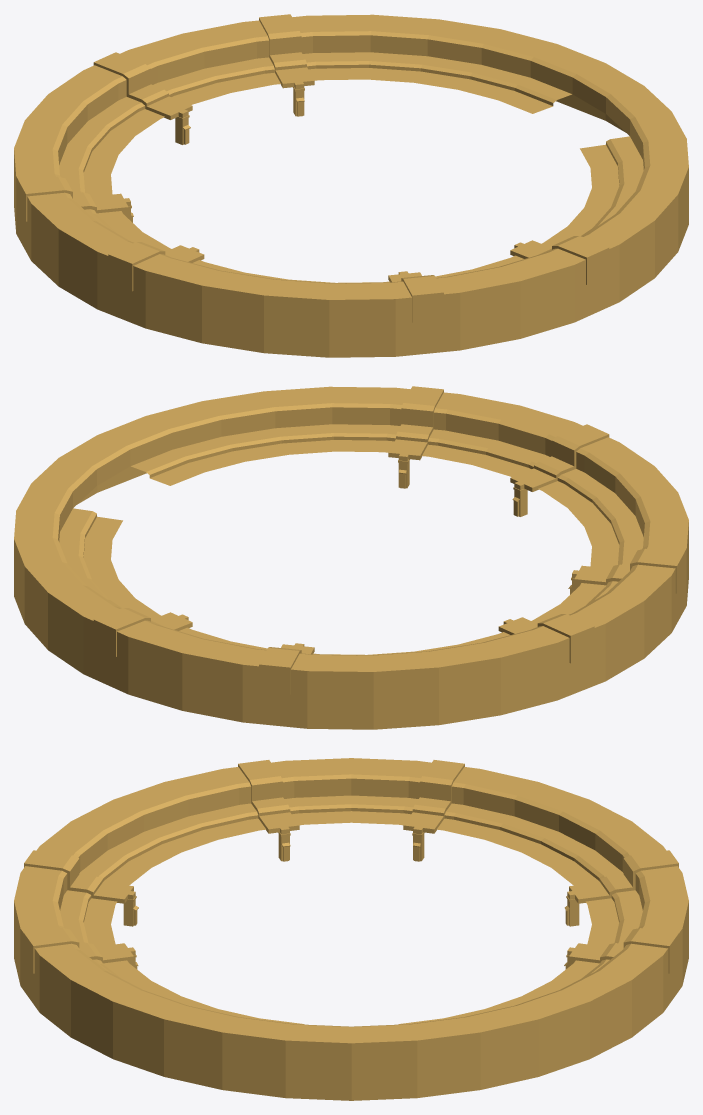
Rendered from Arena_Sitting.fbx.
3 views of the same model, one above another, from view 1: azimuth 30°, elevation 25°; view 2: azimuth 150°, elevation 25°; view 3: azimuth 270°, elevation 25° (orthographic).
Visible parts, largest first — view 1: Arena_Sitting; view 2: Arena_Sitting; view 3: Arena_Sitting.
Boxes of the visible parts, x1,y1,x2,y2 form: Arena_Sitting: (14,14,688,357); Arena_Sitting: (14,386,688,729); Arena_Sitting: (14,758,688,1100).
Bounding box in the file's own units: 6772 × 665 × 6772.
